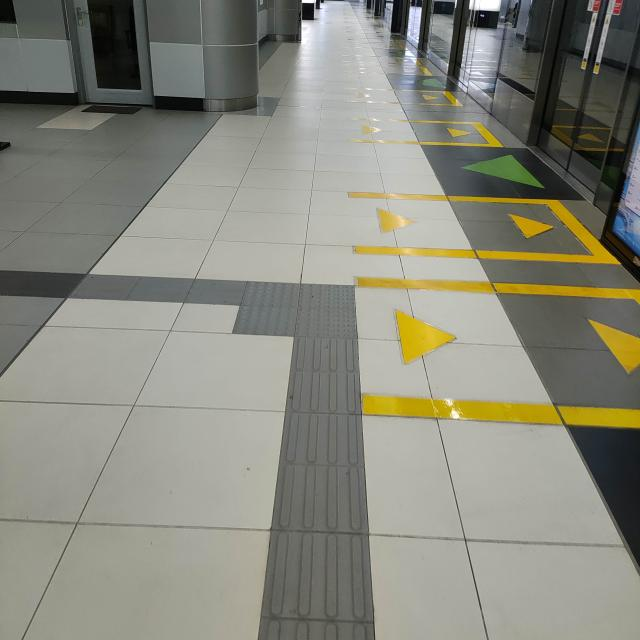kiri: (159, 244, 391, 376)
